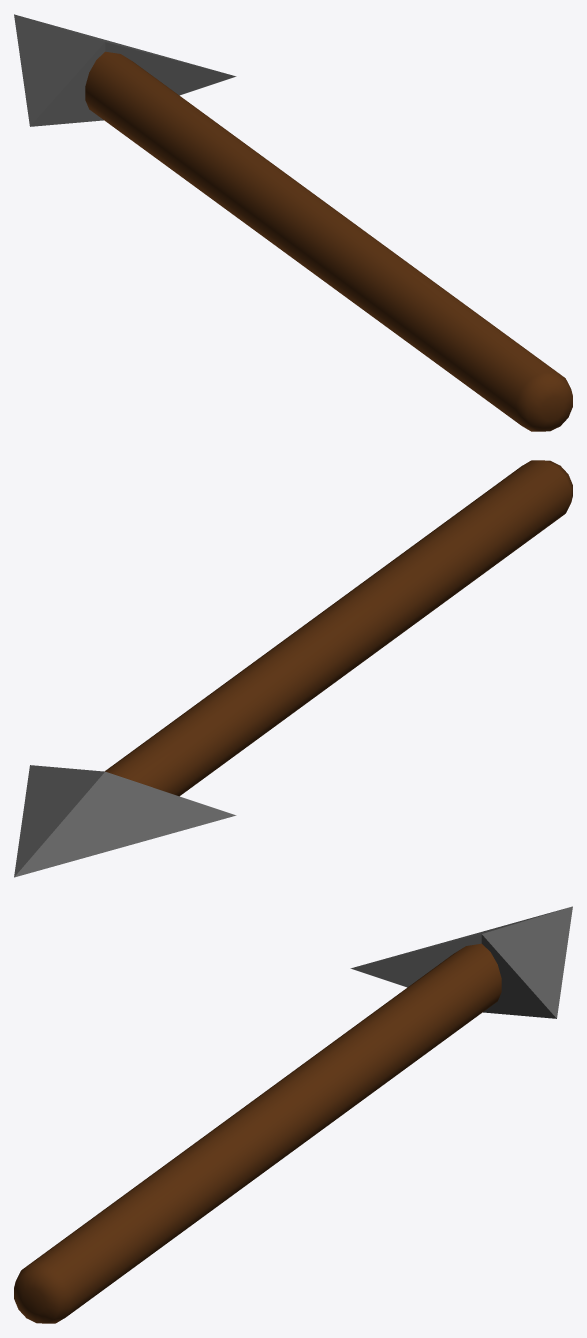
Rendered from Arrow.fbx.
The picture shows the model from 3 angles, top to bottom: view 1: azimuth 30°, elevation 25°; view 2: azimuth 150°, elevation 25°; view 3: azimuth 330°, elevation 25°; orthographic projection.
Parts seen in each view (by area): view 1: Arrow; view 2: Arrow; view 3: Arrow.
Part boxes in pixels (<box>): Arrow: <box>14,14,572,431</box>; Arrow: <box>14,460,572,877</box>; Arrow: <box>14,906,572,1323</box>.
Size of the model in its own units: 0.6601 by 0.239 by 2.98.
